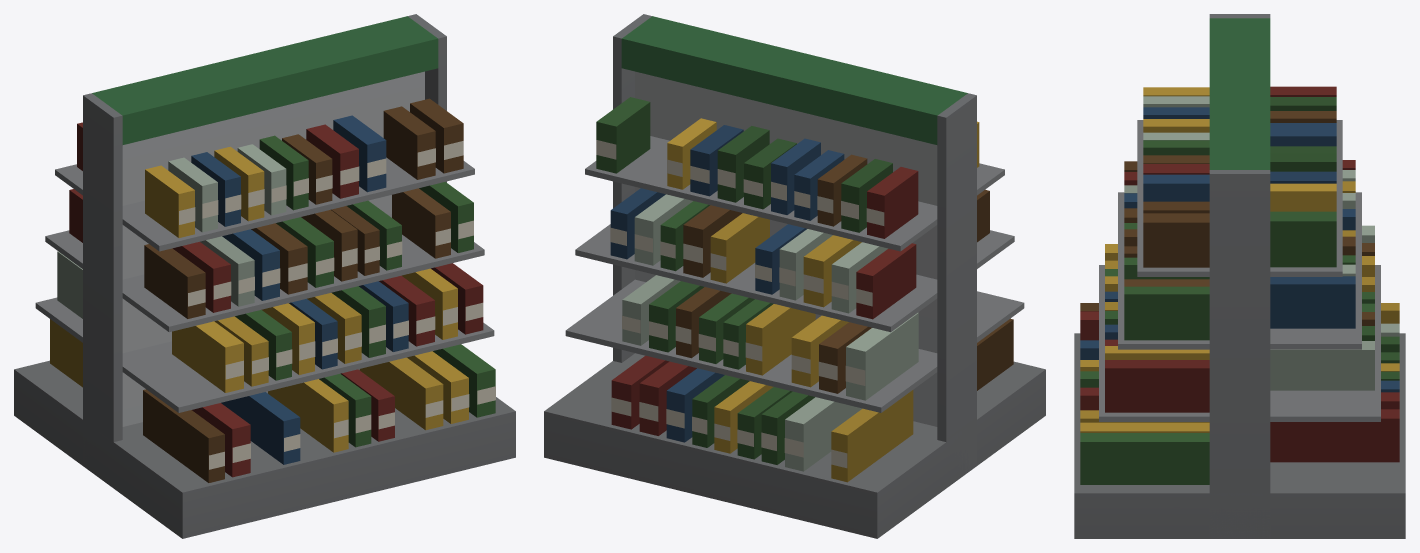
File: shelf.gondola.bottles.glb
The picture shows the model from 3 angles, left to right: view 1: azimuth 30°, elevation 25°; view 2: azimuth 150°, elevation 25°; view 3: azimuth 270°, elevation 25°; orthographic projection.
Parts seen in each view (by area): view 1: shelf_gondola_bottles; view 2: shelf_gondola_bottles; view 3: shelf_gondola_bottles.
Part boxes in pixels (x1,y1,x2,y2): shelf_gondola_bottles: (14,14,515,538); shelf_gondola_bottles: (544,14,1045,538); shelf_gondola_bottles: (1074,14,1405,538).
Size of what is drawn, in the model's own units: 1.88 by 2 by 1.65.
